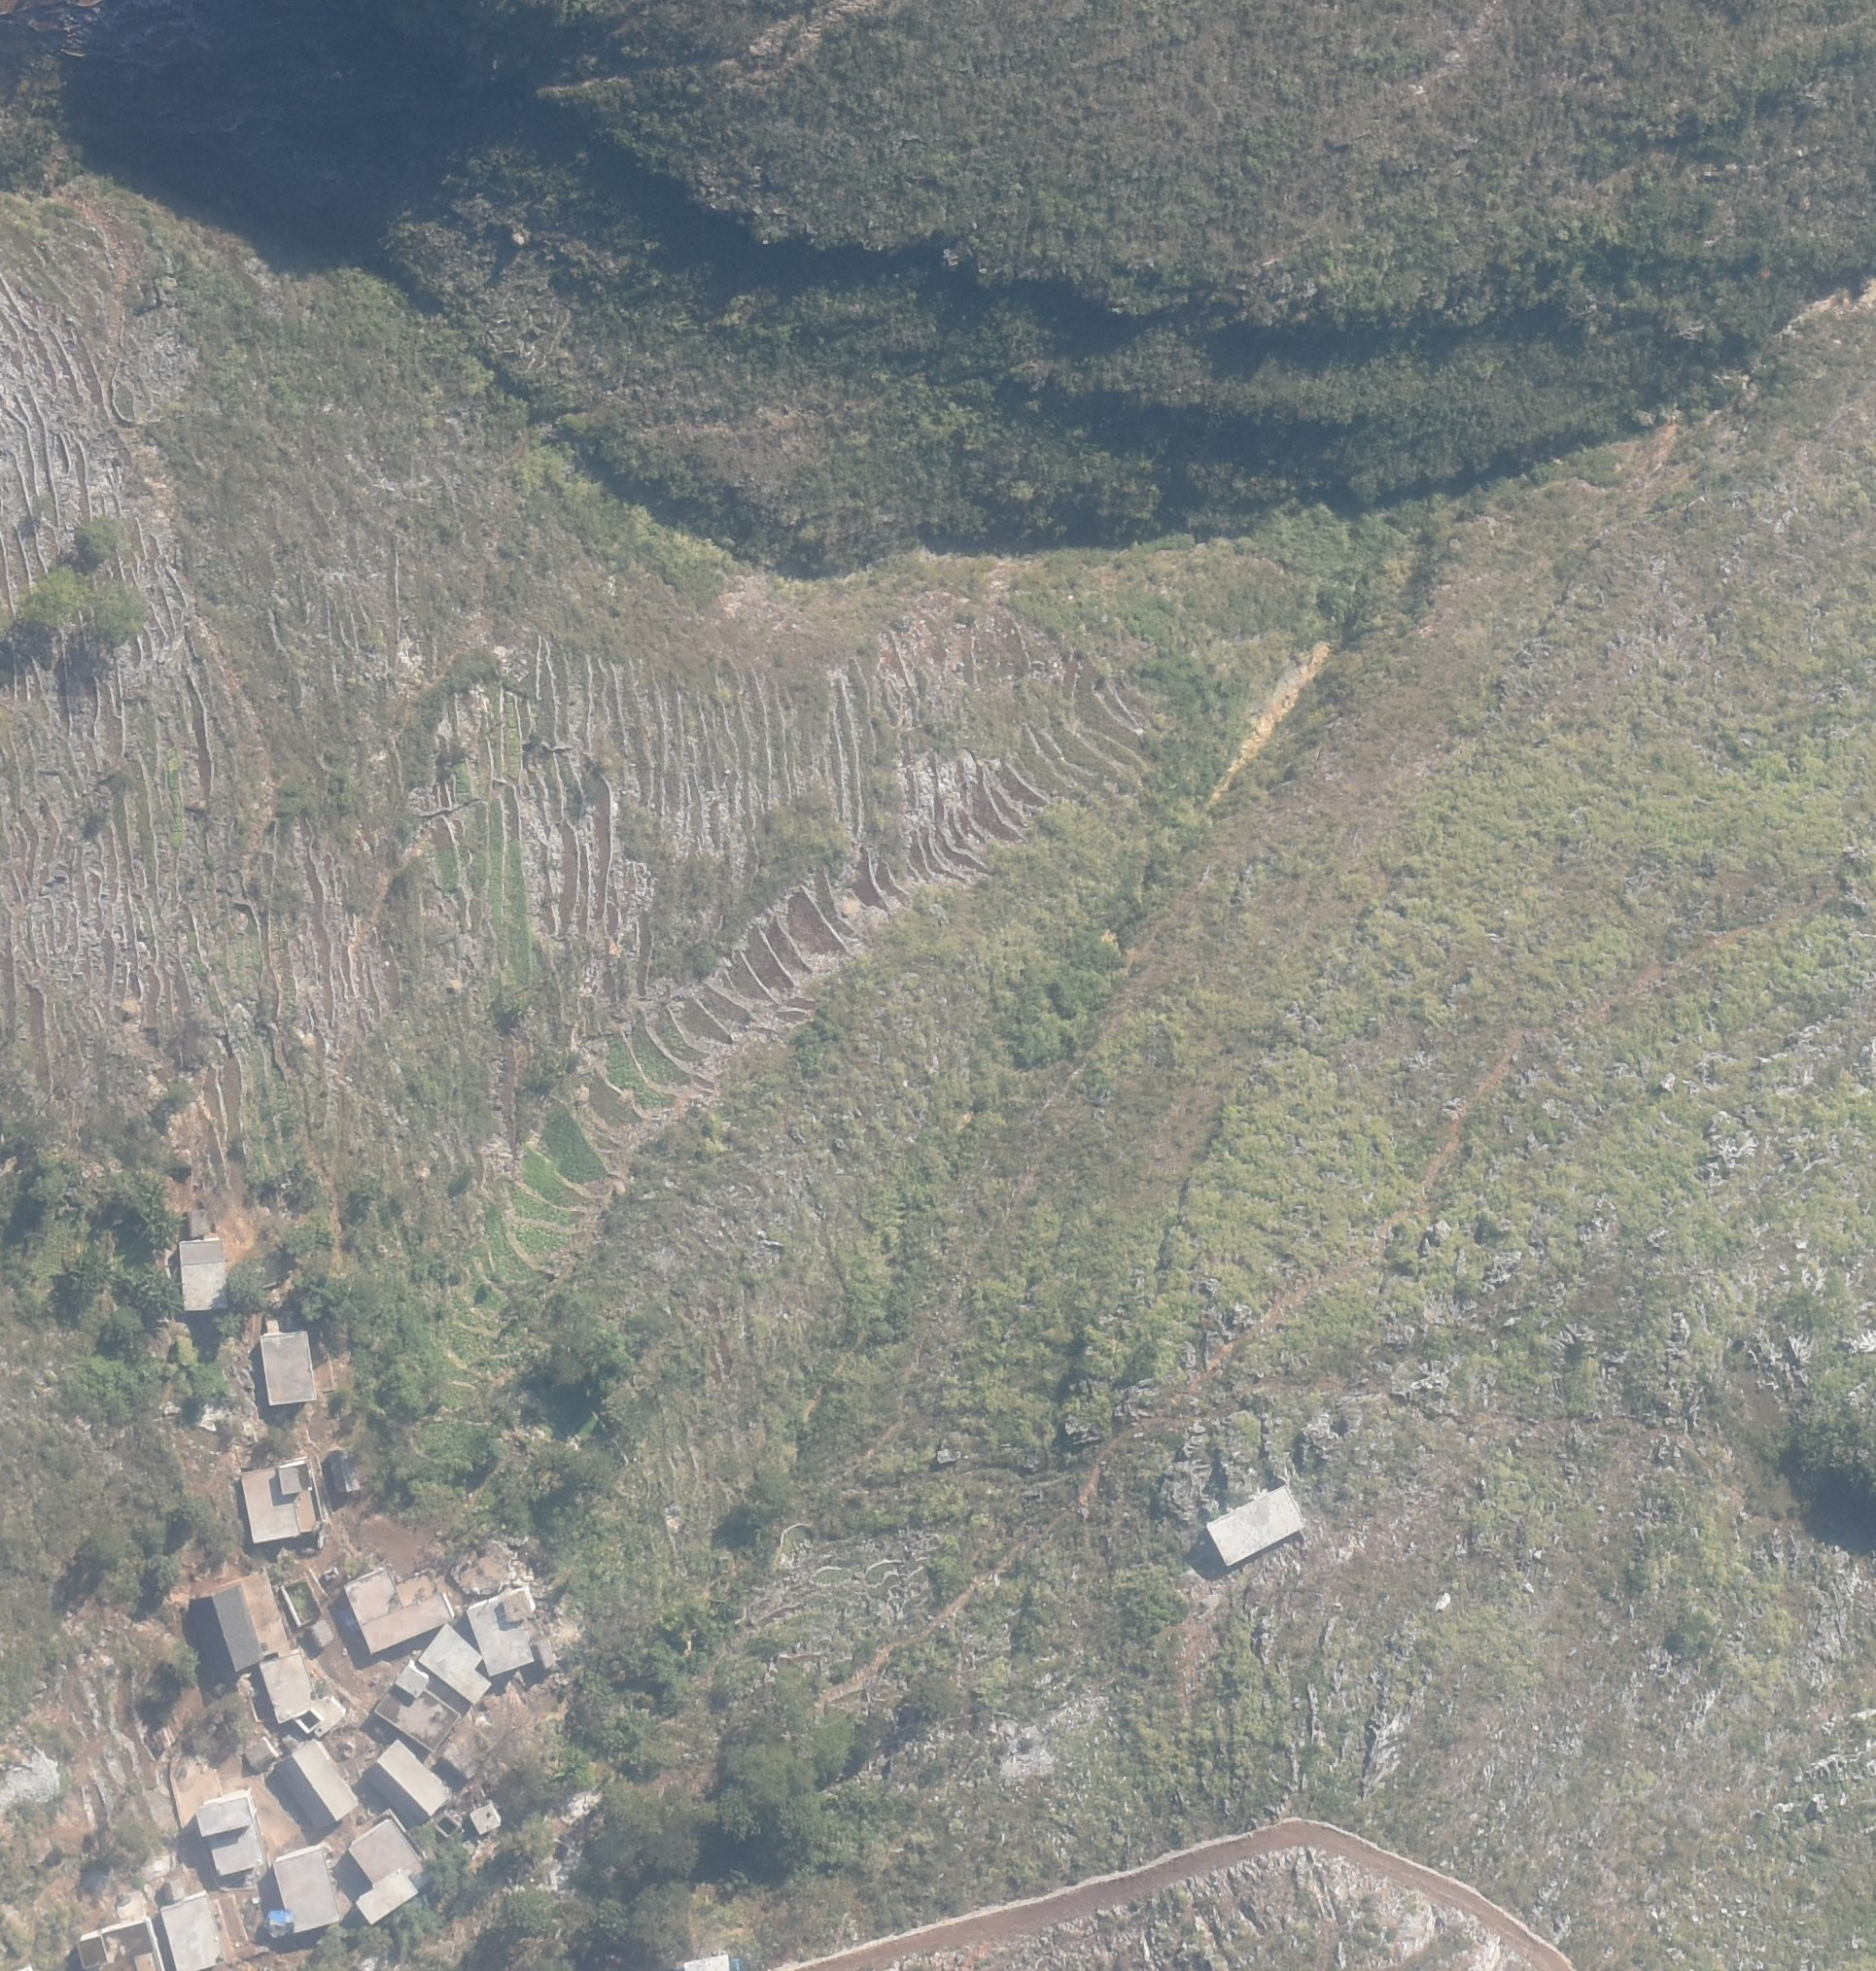building: (341, 1568, 456, 1656), (236, 1455, 326, 1545), (1205, 1485, 1304, 1566), (373, 1661, 461, 1751), (275, 1737, 357, 1830), (348, 1818, 422, 1922), (259, 1652, 345, 1739), (364, 1737, 449, 1821), (188, 1586, 264, 1679), (417, 1619, 493, 1705), (466, 1587, 540, 1675), (271, 1846, 340, 1939), (192, 1791, 262, 1876), (158, 1894, 222, 1971), (259, 1327, 319, 1404), (178, 1239, 231, 1311), (331, 1447, 361, 1494), (470, 1800, 498, 1835)
